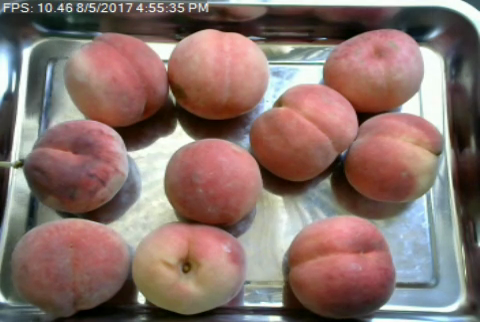Peach: (7, 217, 127, 317), (283, 215, 395, 319), (249, 83, 358, 182), (135, 222, 245, 316), (63, 32, 169, 127), (24, 117, 128, 213), (342, 112, 443, 203), (168, 29, 268, 120), (321, 26, 424, 114), (163, 137, 262, 226)
